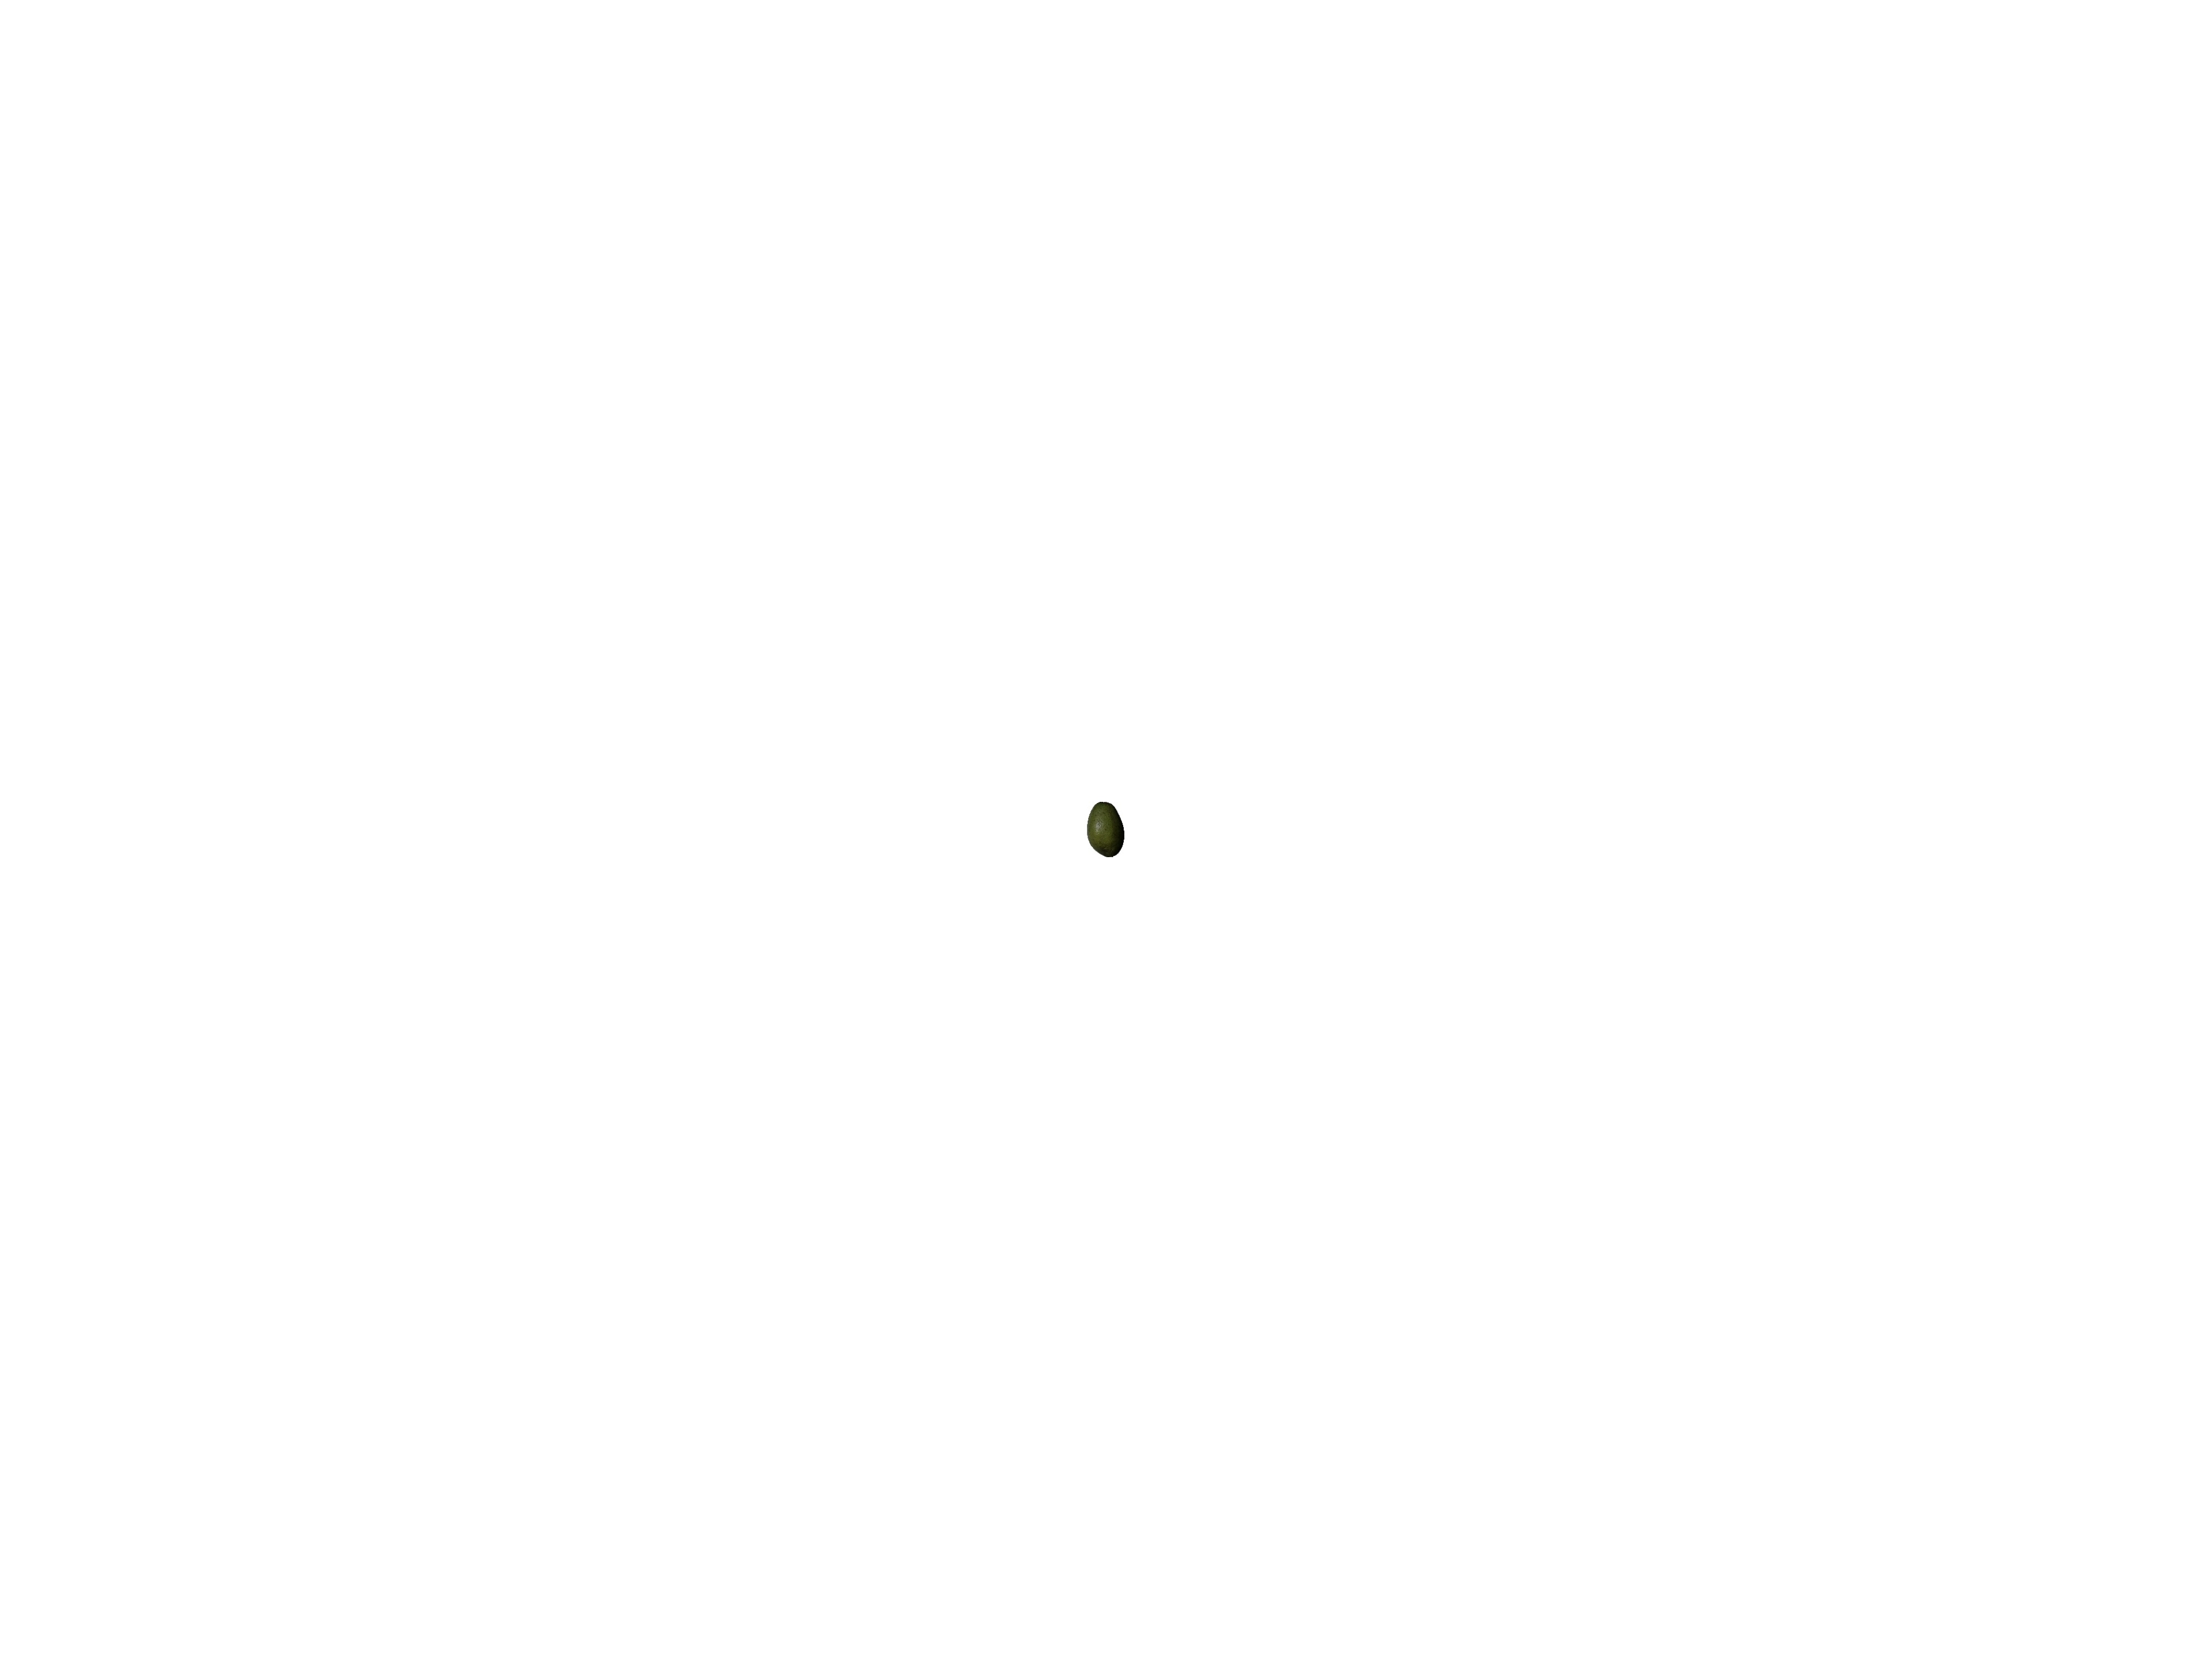abacate: (1082, 796, 1129, 863)
